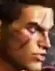kevin: (5, 0, 51, 68)
